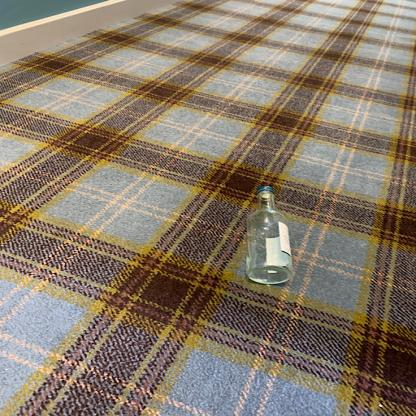trash: (244, 184, 293, 285)
